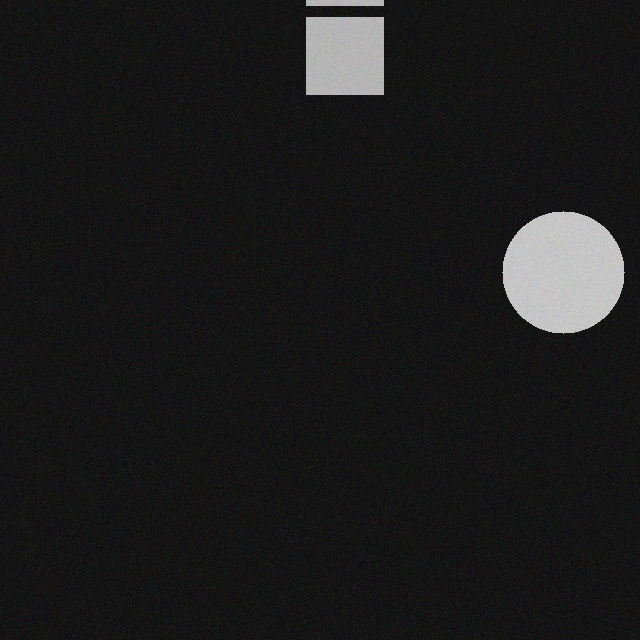circle: (507, 200, 629, 322)
square: (311, 6, 388, 83)
